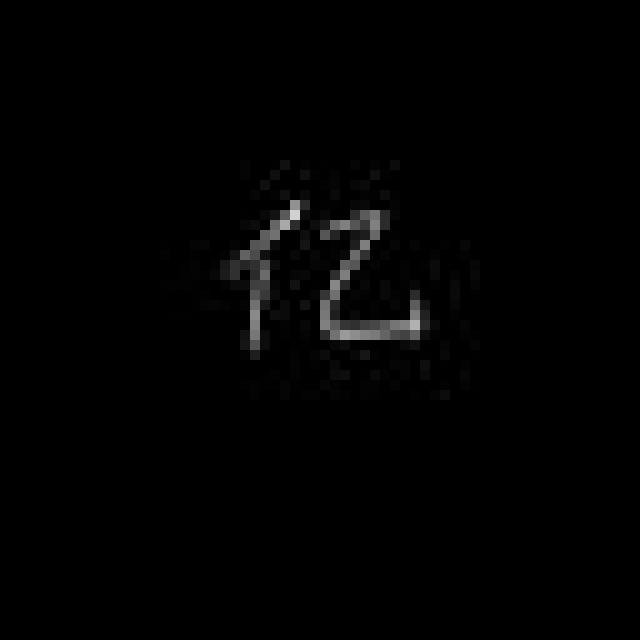100000 -a hundred thousand-: (206, 190, 435, 371)
